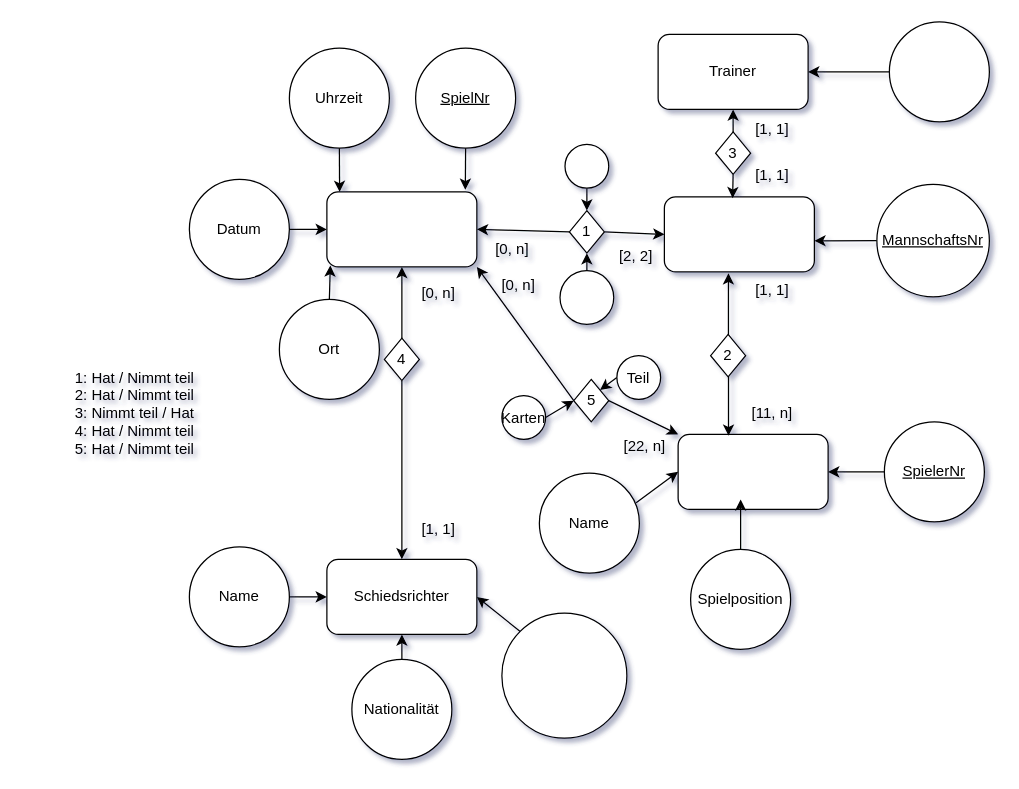
This 1019x789 diagram has some shape labels left out. Each missing label, with the centre of its shape:
"Fußballer" belongs at (x=752, y=471).
"Mannschaft" belongs at (x=738, y=234).
"Punkte" belongs at (x=586, y=296).
"SchiedsrichterNr" belongs at (x=564, y=675).
"Spiel" belongs at (x=401, y=229).
"Tore" belongs at (x=586, y=165).
"TrainerNr" belongs at (x=938, y=71).
